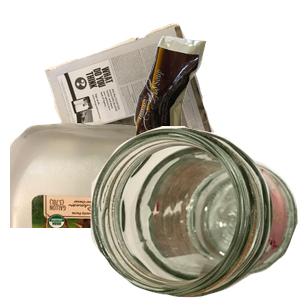glass: (90, 126, 300, 300)
paper: (42, 21, 249, 181)
plastic: (10, 120, 220, 300)
trash: (131, 34, 300, 177)
